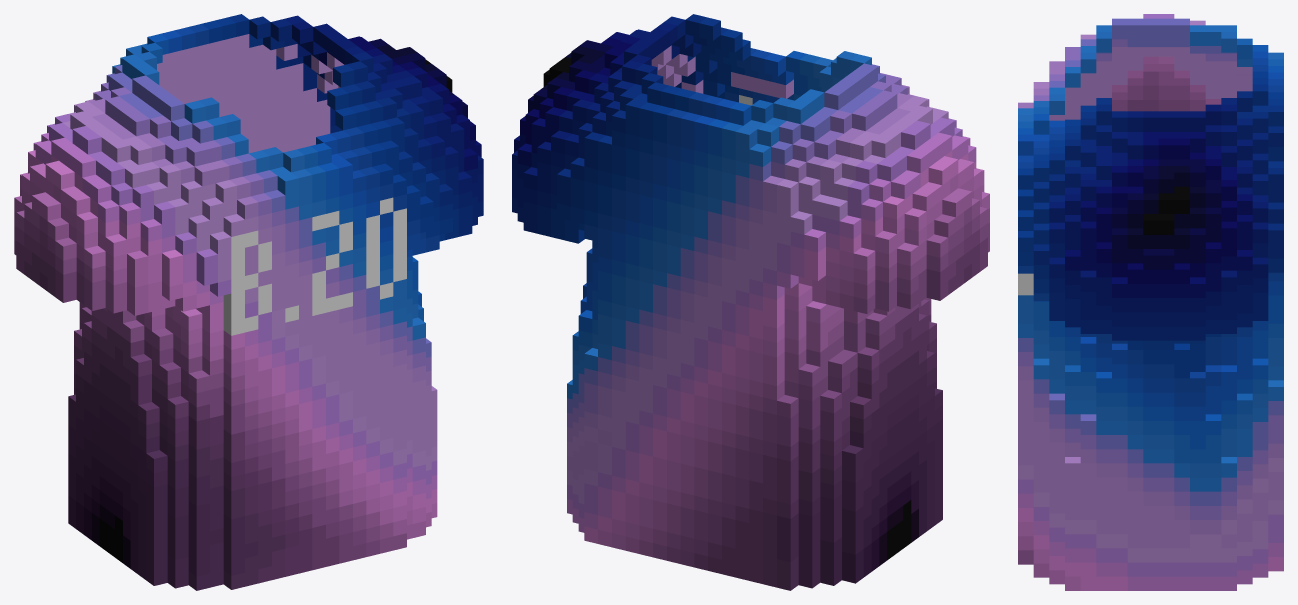
The picture shows the model from 3 angles, left to right: view 1: azimuth 30°, elevation 25°; view 2: azimuth 150°, elevation 25°; view 3: azimuth 270°, elevation 25°; orthographic projection.
Size of the model in its own units: 1.55 by 1.6 by 0.85.
